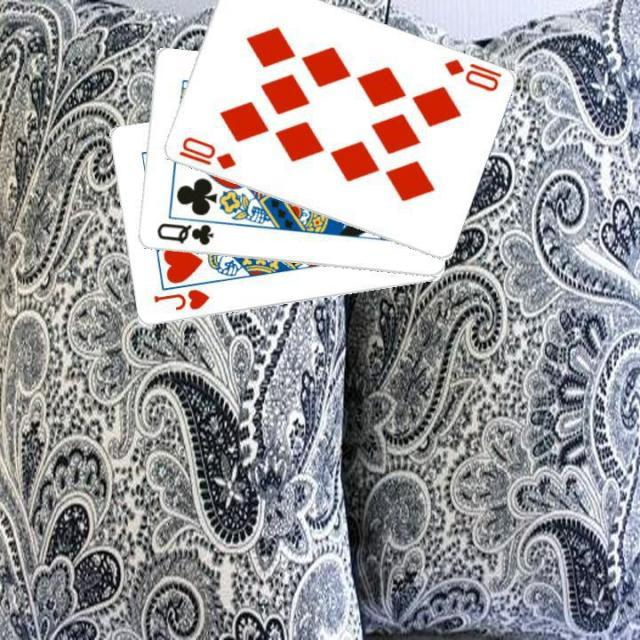10D: (439, 54, 503, 94), (175, 133, 238, 172)
JH: (149, 285, 211, 313)
QC: (153, 220, 215, 248)
